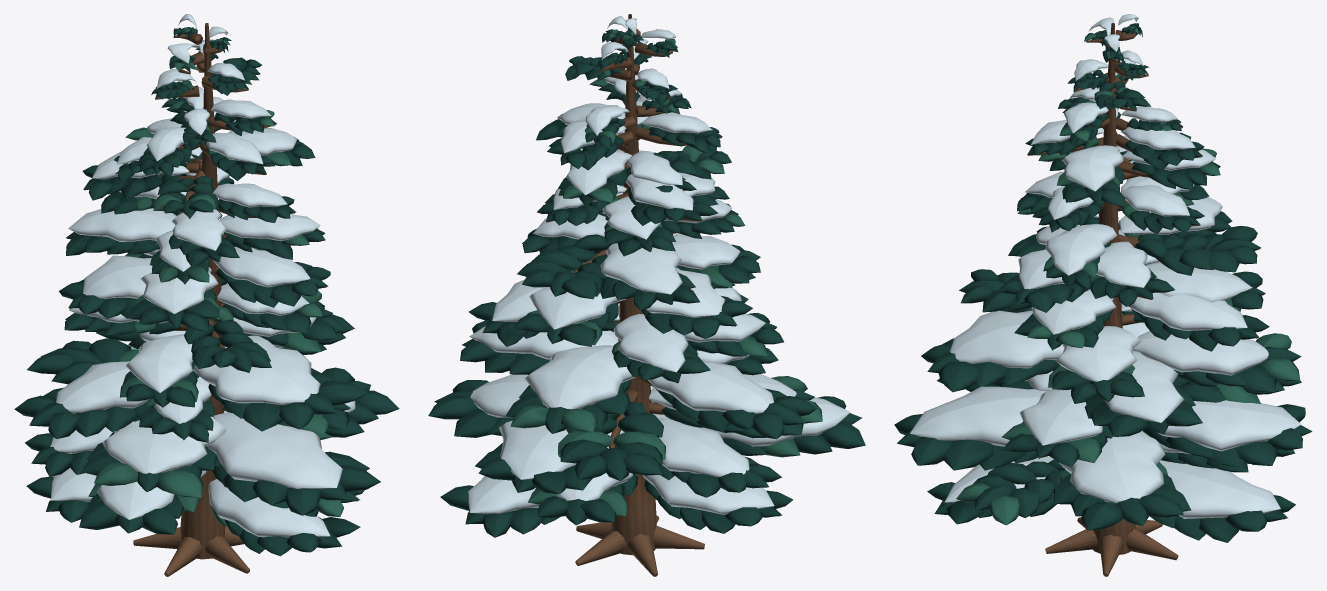
Rendered from pine_2.glb.
The picture shows the model from 3 angles, left to right: view 1: azimuth 30°, elevation 25°; view 2: azimuth 150°, elevation 25°; view 3: azimuth 270°, elevation 25°; orthographic projection.
Visible parts, largest first — view 1: pine_2; view 2: pine_2; view 3: pine_2.
Part boxes in pixels (<box>): pine_2: <box>14,14,399,576</box>; pine_2: <box>428,14,865,576</box>; pine_2: <box>894,14,1312,576</box>.
Bounding box in the file's own units: 2.88 × 4.05 × 2.9.
Materials: 4 (4 with a texture image).
